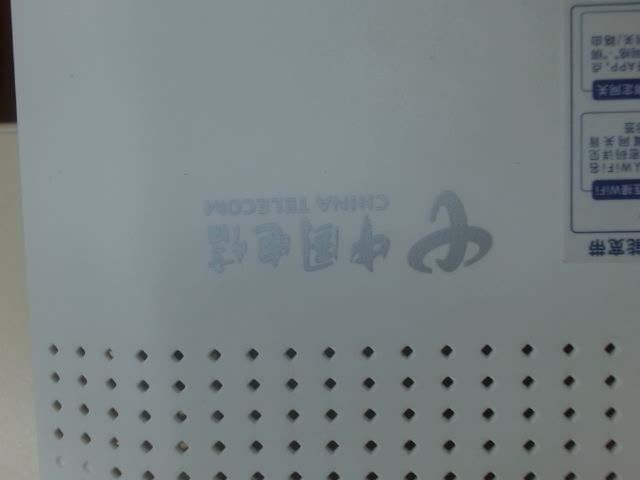ChinaTelecom1: (193, 177, 508, 291)
